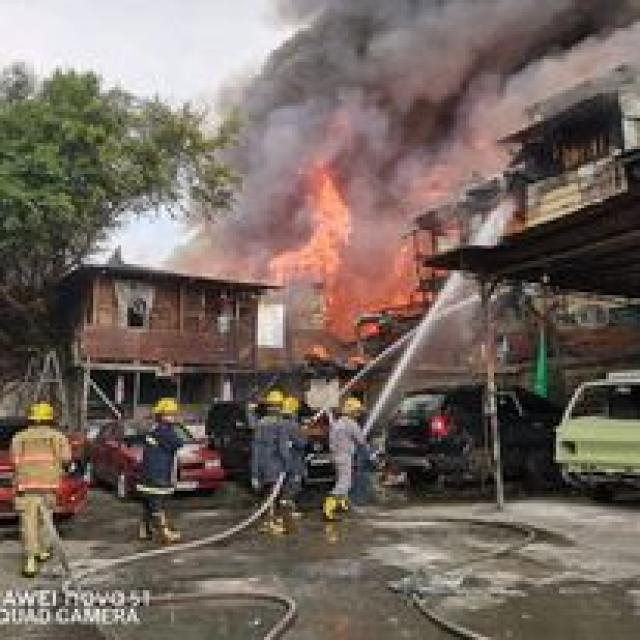Fire: (318, 214, 448, 337), (254, 160, 356, 304)
Smoke: (172, 0, 614, 283)
